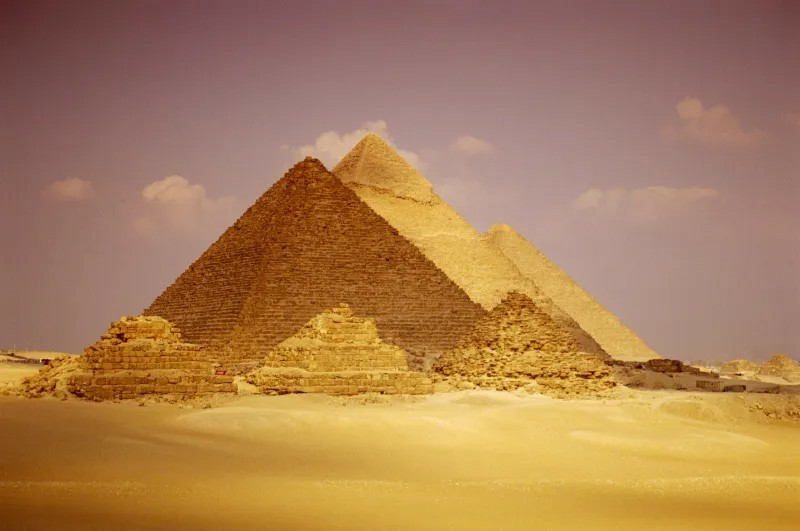Pyramid: (145, 156, 491, 377), (332, 133, 616, 367), (486, 223, 663, 362), (438, 289, 621, 392), (243, 303, 438, 395), (50, 315, 240, 402)
